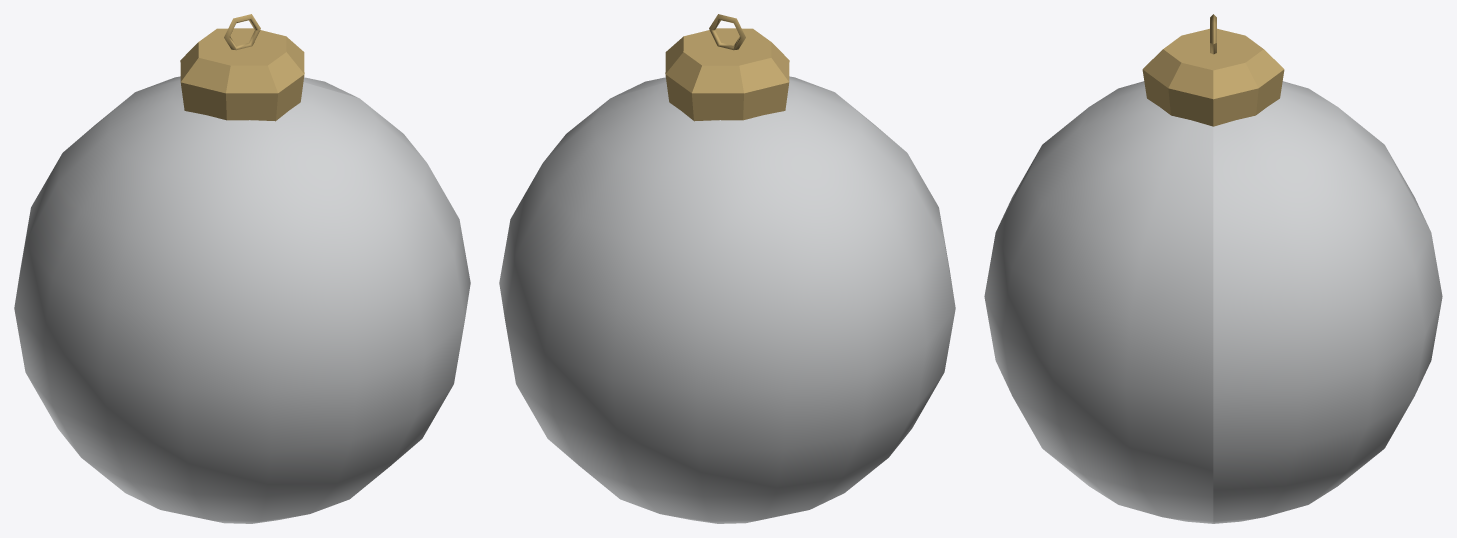
Rendered from prop_schmuck_mirrorball.lite.glb.
3 views of the same model, side by side, from view 1: azimuth 30°, elevation 25°; view 2: azimuth 150°, elevation 25°; view 3: azimuth 270°, elevation 25° (orthographic).
Visible parts, largest first — view 1: act_orn_mirrorball_mesh; view 2: act_orn_mirrorball_mesh; view 3: act_orn_mirrorball_mesh.
Part boxes in pixels (x1=…): act_orn_mirrorball_mesh: x1=14, y1=14, x2=470, y2=523; act_orn_mirrorball_mesh: x1=499, y1=14, x2=955, y2=523; act_orn_mirrorball_mesh: x1=984, y1=14, x2=1442, y2=523.
Bounding box in the file's own units: 0.18 × 0.2106 × 0.18.
